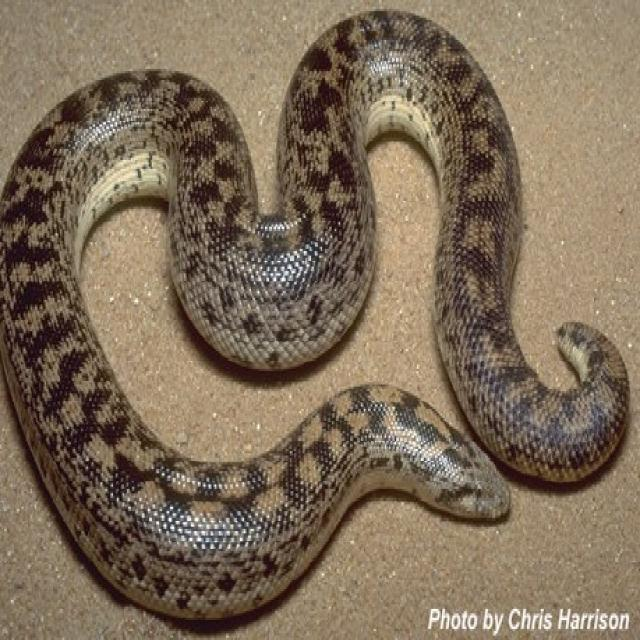Snake: (0, 6, 629, 622)
